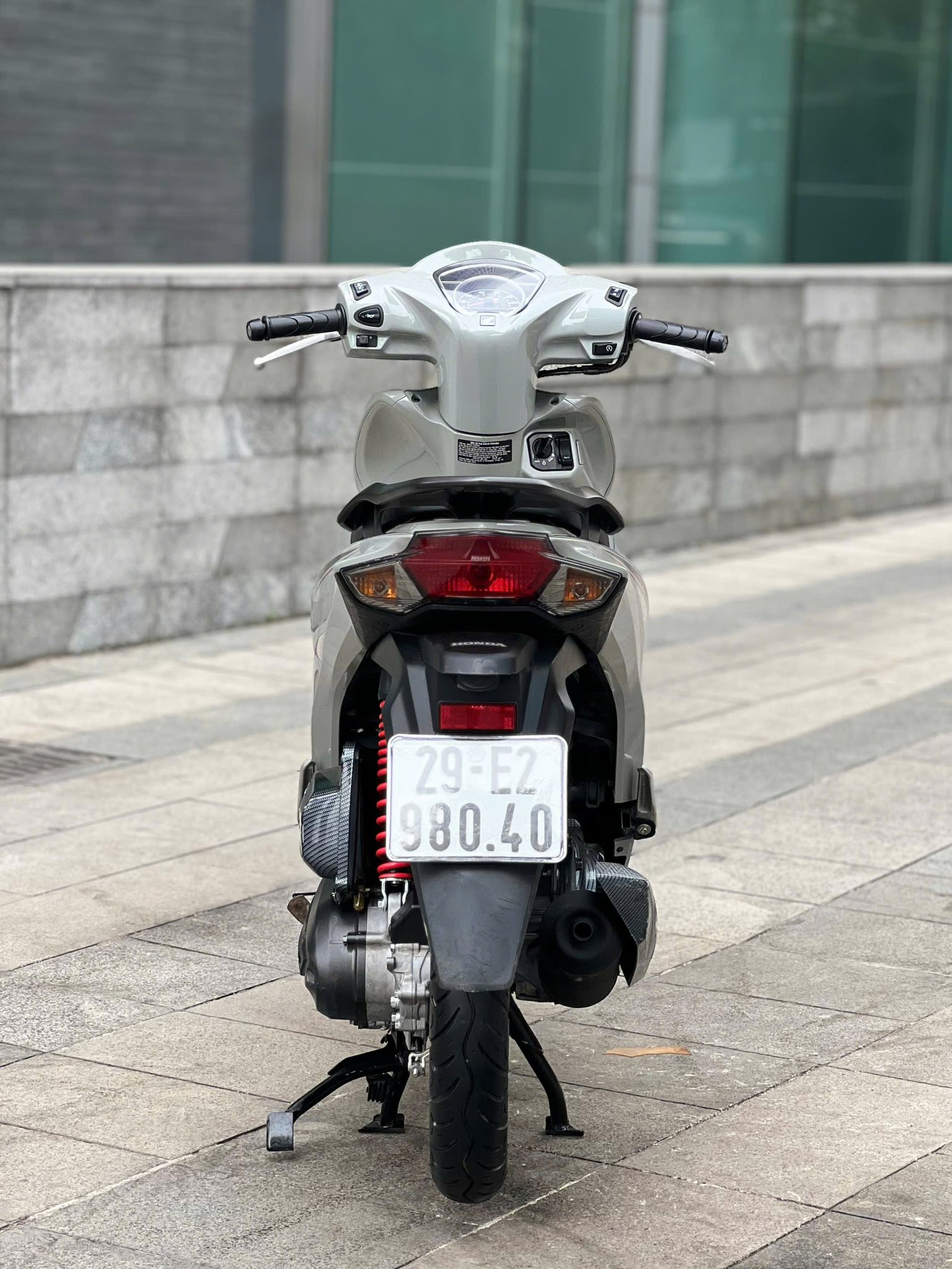bien_so: (378, 725, 578, 884)
